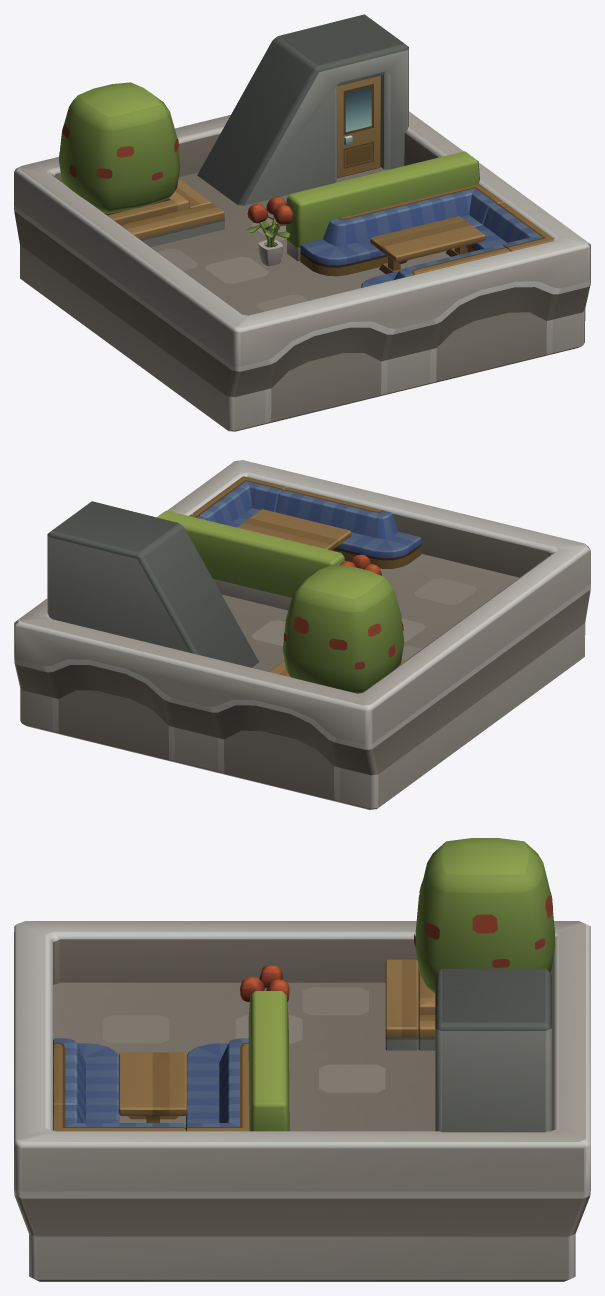
Rendered from appartment_type1_roof_type1_x4_deco.fbx.
3 views of the same model, one above another, from view 1: azimuth 30°, elevation 25°; view 2: azimuth 150°, elevation 25°; view 3: azimuth 270°, elevation 25° (orthographic). The views are drawn at different scales.
Parts seen in each view (by area): view 1: appartment_type1_roof_type1_x4_deco, door_wood_rooftop_doorway; view 2: appartment_type1_roof_type1_x4_deco; view 3: appartment_type1_roof_type1_x4_deco.
Part boxes in pixels (x1,y1,x2,y2): appartment_type1_roof_type1_x4_deco: (14, 14, 590, 431); door_wood_rooftop_doorway: (337, 75, 380, 178); appartment_type1_roof_type1_x4_deco: (14, 460, 590, 809); appartment_type1_roof_type1_x4_deco: (14, 838, 590, 1281).
Size of the model in its own units: 800 by 413 by 867.
